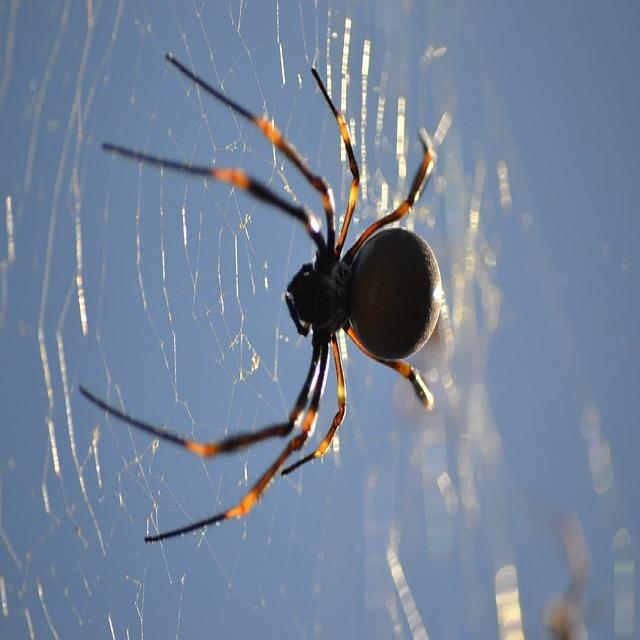spyder: (78, 56, 452, 542)
